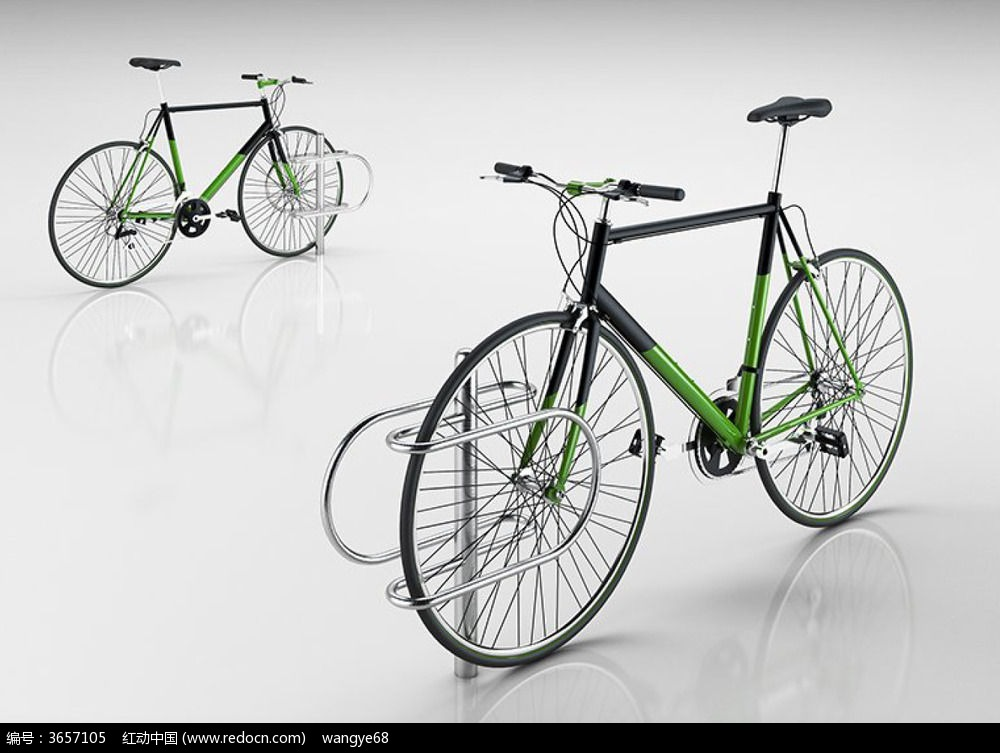MNV: (338, 95, 916, 665), (48, 57, 368, 291)
